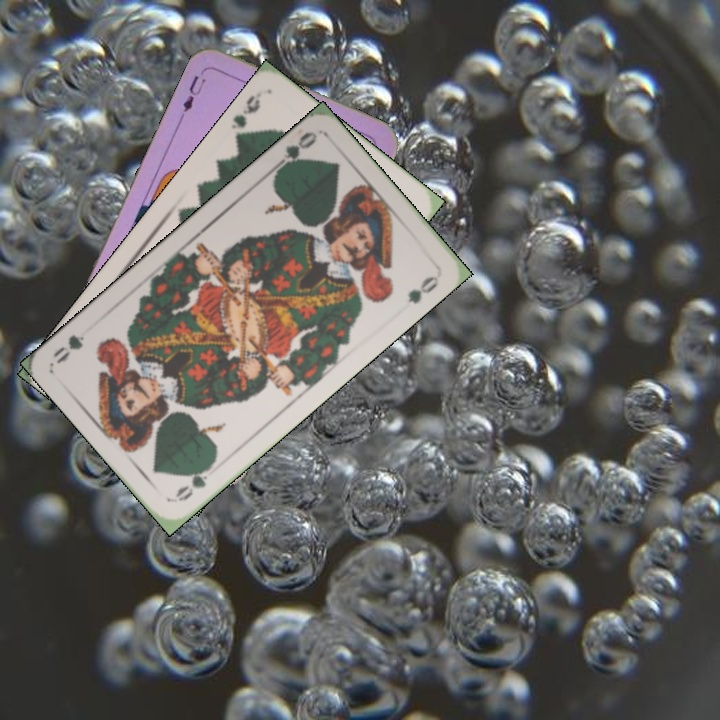EU: (178, 64, 209, 120)
G9: (227, 91, 263, 143)
GO: (268, 127, 319, 177), (171, 458, 217, 505)
